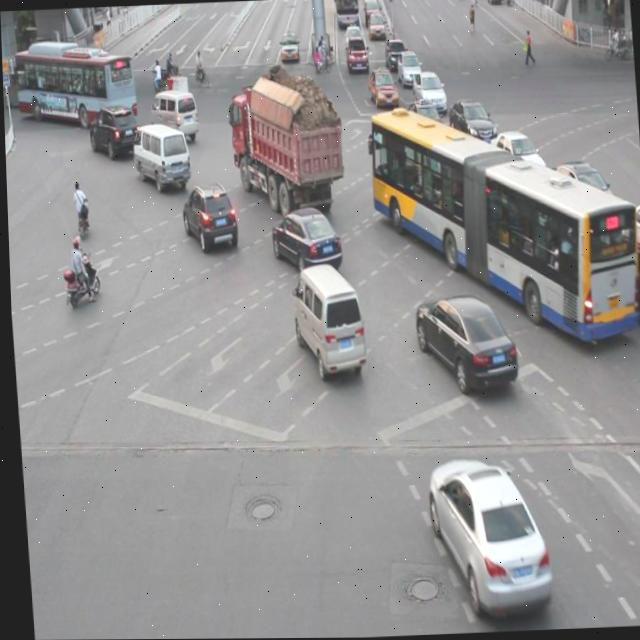bus: (225, 84, 344, 217)
car: (422, 454, 548, 618), (411, 291, 514, 395), (547, 157, 619, 233), (268, 206, 339, 273), (524, 211, 587, 281), (179, 183, 237, 252), (485, 126, 543, 189), (464, 164, 522, 226), (86, 102, 138, 158), (445, 98, 493, 146), (400, 98, 444, 148), (625, 224, 640, 326), (626, 200, 640, 251)
truck: (287, 260, 363, 375), (128, 121, 189, 189), (147, 88, 198, 145)
van: (367, 102, 637, 348)
